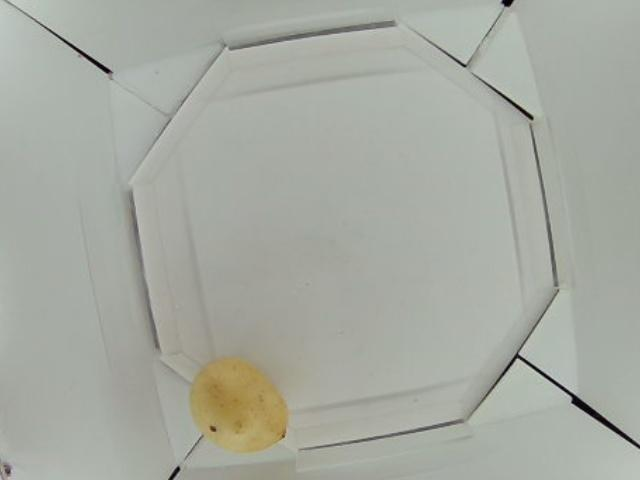Potato: (186, 356, 289, 451)
